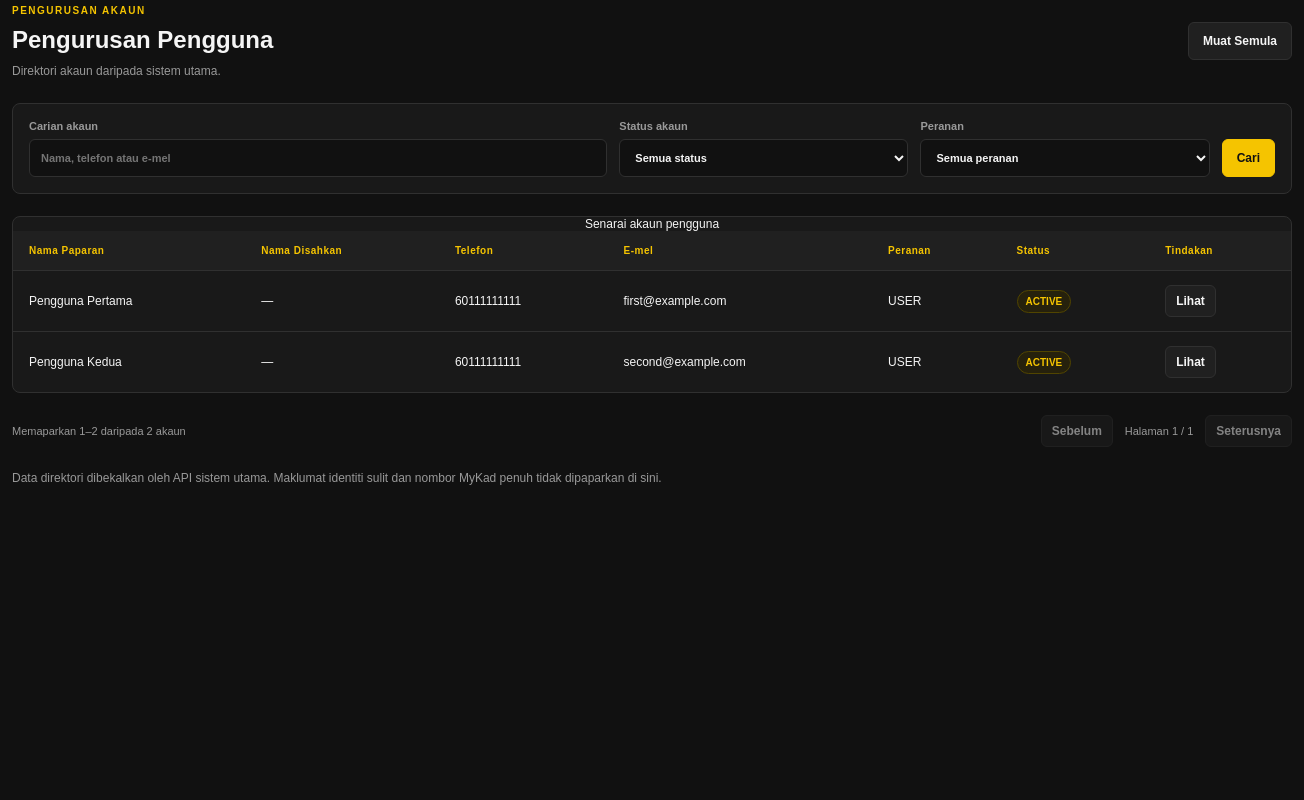
AccountsPage detail loading › mengunci tindakan Lihat semasa butiran akaun sedang dimuatkan
Later steps or results of the test are not shown.
Expected: the text "Pengguna Pertama" is shown, [13, 271, 245, 332]
Click the button "Lihat" in the row of "Pengguna Pertama": coordinates (1191, 301) [1165, 285, 1216, 317]
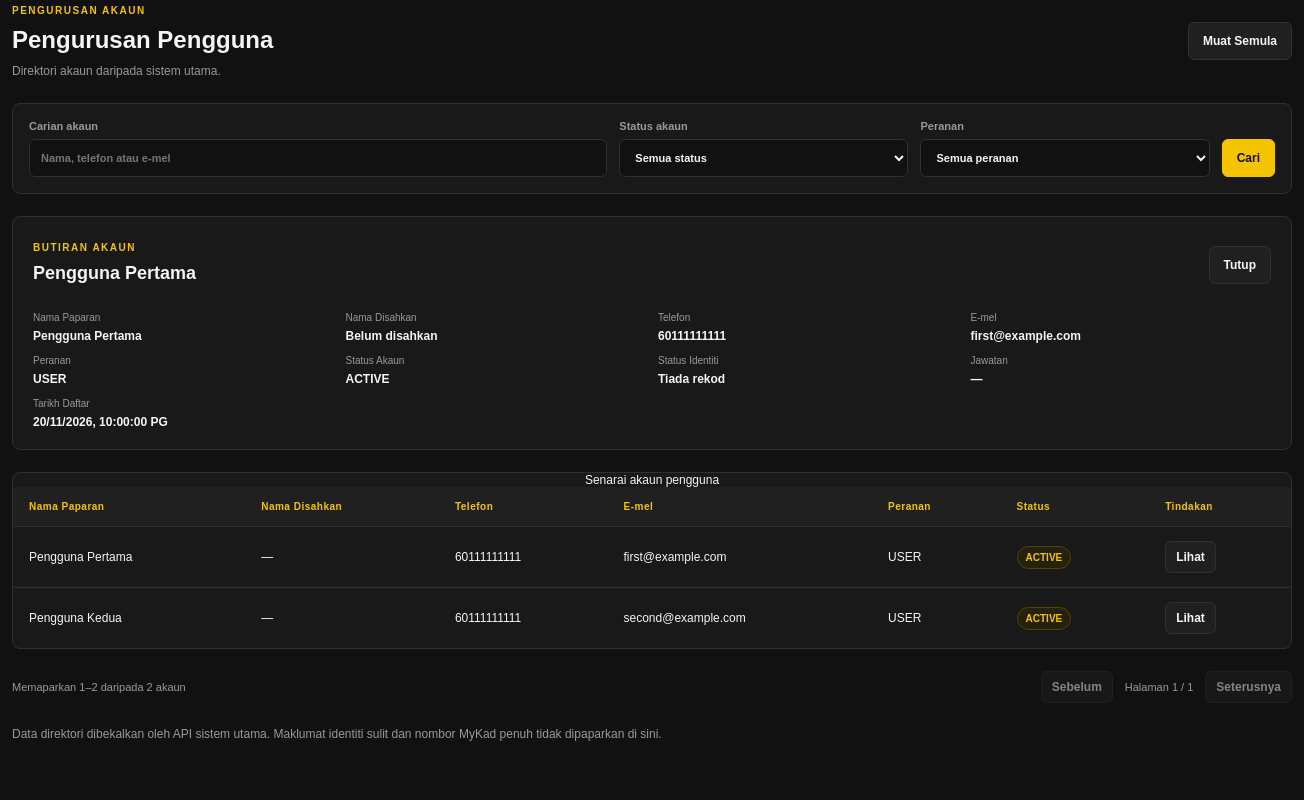
Now the heading "Pengguna Pertama" is shown, box [33, 263, 196, 284]
